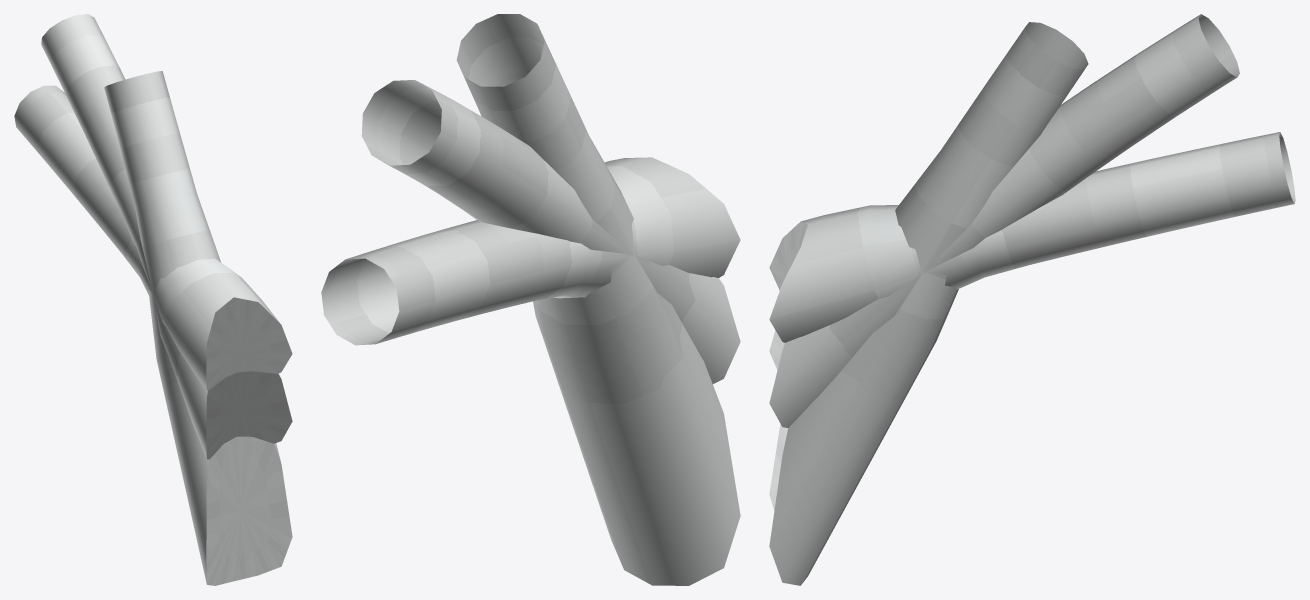
File: luminairearm_vannuystriple_c0_pedestal.obj
3 views of the same model, side by side, from view 1: azimuth 30°, elevation 25°; view 2: azimuth 150°, elevation 25°; view 3: azimuth 270°, elevation 25° (orthographic). The views are drawn at different scales.
Parts seen in each view (by area): view 1: luminairearm_vannuystriple_c0_pedestal; view 2: luminairearm_vannuystriple_c0_pedestal; view 3: luminairearm_vannuystriple_c0_pedestal.
Part boxes in pixels (box(x1,y1,x2,y2)): luminairearm_vannuystriple_c0_pedestal: box(14, 14, 292, 585); luminairearm_vannuystriple_c0_pedestal: box(321, 14, 740, 585); luminairearm_vannuystriple_c0_pedestal: box(769, 14, 1295, 585).
Size of the model in its own units: 0.3375 by 1.69 by 1.44.
